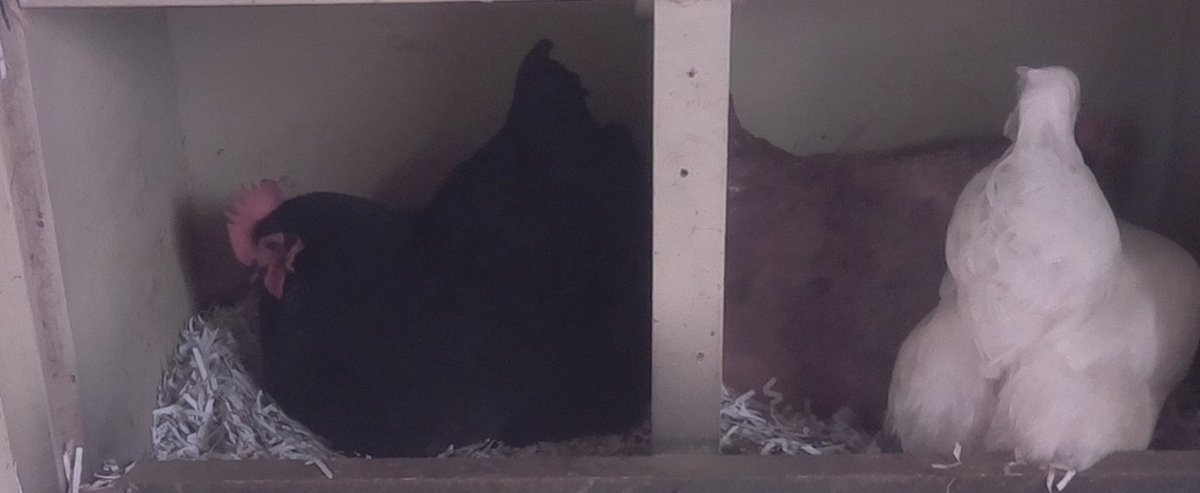hen: (221, 60, 647, 451), (898, 66, 1193, 456), (726, 123, 903, 410)
